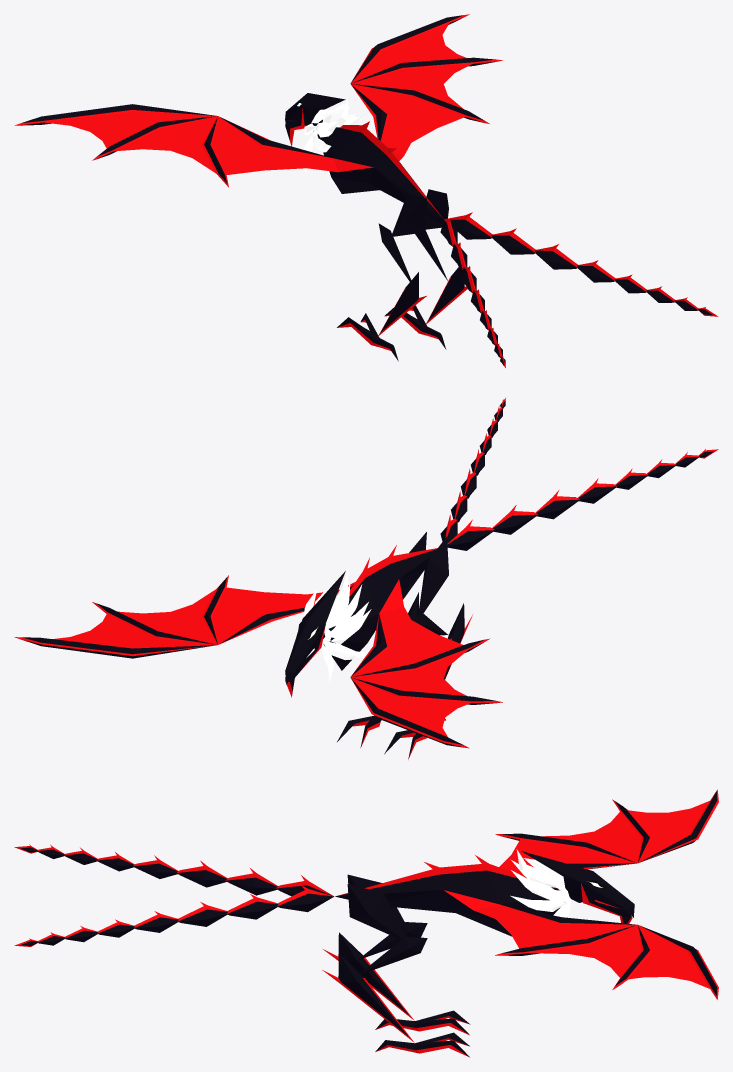
File: Black_Wyvern.glb
3 renders of one model, top to bottom at view 1: azimuth 30°, elevation 25°; view 2: azimuth 150°, elevation 25°; view 3: azimuth 270°, elevation 25°, orthographic. The views are drawn at different scales.
Visible parts, largest first — view 1: Lizard_Tail.002, Lizard_Mane.001, Lizard_Head.001; view 2: Lizard_Tail.002, Lizard_Mane.001, Lizard_Head.001; view 3: Lizard_Tail.002, Lizard_Mane.001, Lizard_Head.001, Lizard_Jaw.001.
Boxes of the visible parts, bbox=[...] form: Lizard_Tail.002: bbox=[14, 14, 718, 367]; Lizard_Mane.001: bbox=[303, 99, 368, 187]; Lizard_Head.001: bbox=[285, 93, 345, 131]; Lizard_Tail.002: bbox=[14, 398, 718, 759]; Lizard_Mane.001: bbox=[304, 567, 371, 682]; Lizard_Head.001: bbox=[285, 571, 345, 684]; Lizard_Tail.002: bbox=[14, 789, 718, 1057]; Lizard_Mane.001: bbox=[510, 849, 570, 917]; Lizard_Head.001: bbox=[521, 851, 634, 917]; Lizard_Jaw.001: bbox=[581, 883, 632, 923].
Size of the model in its own units: 0.8268 by 0.3511 by 1.16.
